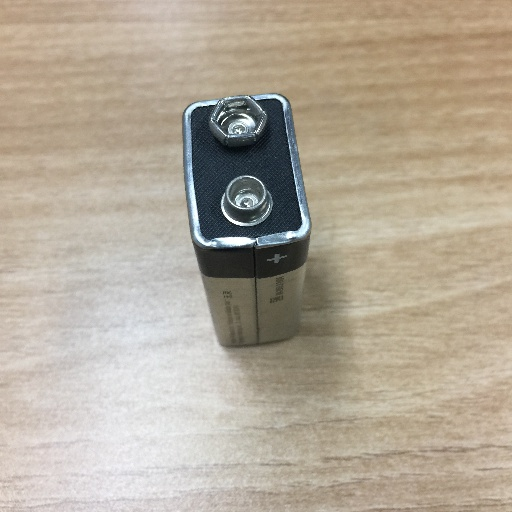Battery_3: (176, 86, 324, 351)
